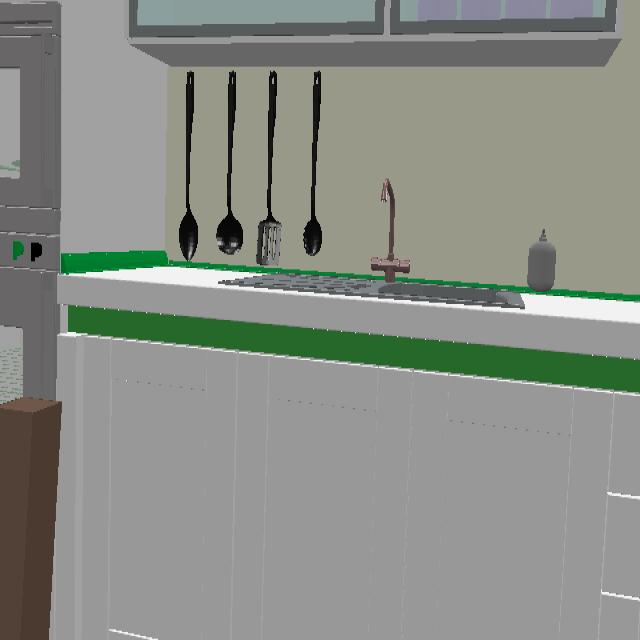cabinet: (52, 333, 640, 638)
countertop: (58, 252, 640, 391)
oven: (0, 232, 60, 402)
sink: (220, 180, 525, 308)
